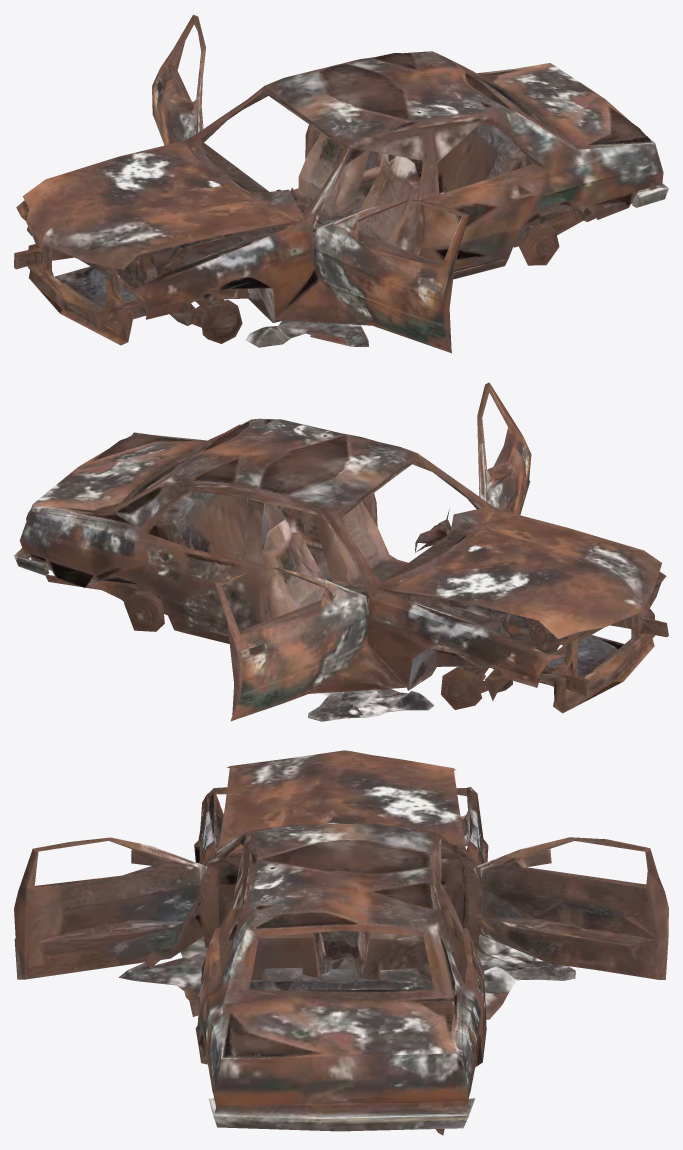
Rendered from car_wreck.glb.
3 views of the same model, one above another, from view 1: azimuth 30°, elevation 25°; view 2: azimuth 150°, elevation 25°; view 3: azimuth 270°, elevation 25° (orthographic). The views are drawn at different scales.
Parts seen in each view (by area): view 1: Mesh_0; view 2: Mesh_0; view 3: Mesh_0.
Part boxes in pixels (box(x1,y1,x2,y2)): Mesh_0: box(14, 14, 668, 353); Mesh_0: box(14, 382, 668, 721); Mesh_0: box(14, 750, 668, 1135).
Size of the model in its own units: 1.9 by 0.5128 by 1.66.
Materials: 1 (1 with a texture image).
